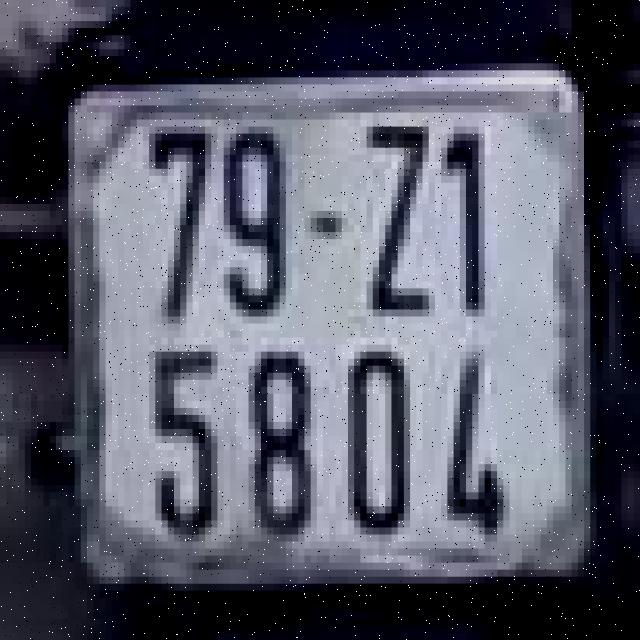0: (342, 344, 422, 542)
1: (435, 116, 497, 320)
4: (438, 338, 538, 548)
5: (143, 338, 230, 542)
7: (143, 123, 217, 341)
8: (242, 344, 323, 548)
9: (220, 112, 302, 324)
Z: (351, 109, 432, 320)
